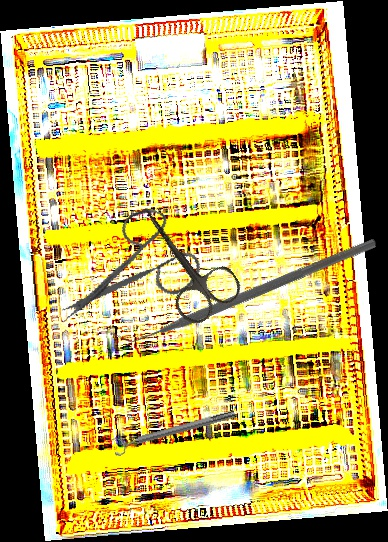Chopper: (106, 143, 380, 433)
Fixation Ring: (110, 405, 238, 457)
Iris Scissors: (57, 192, 215, 354), (118, 188, 247, 330)
